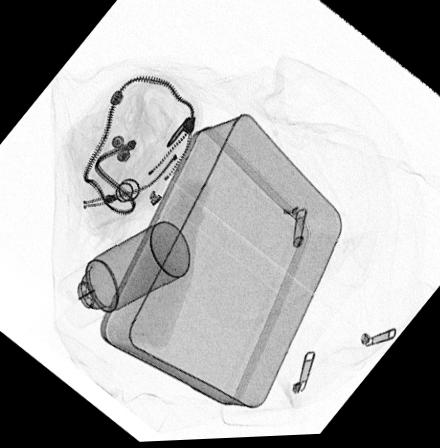Sprayer: (55, 222, 193, 332)
